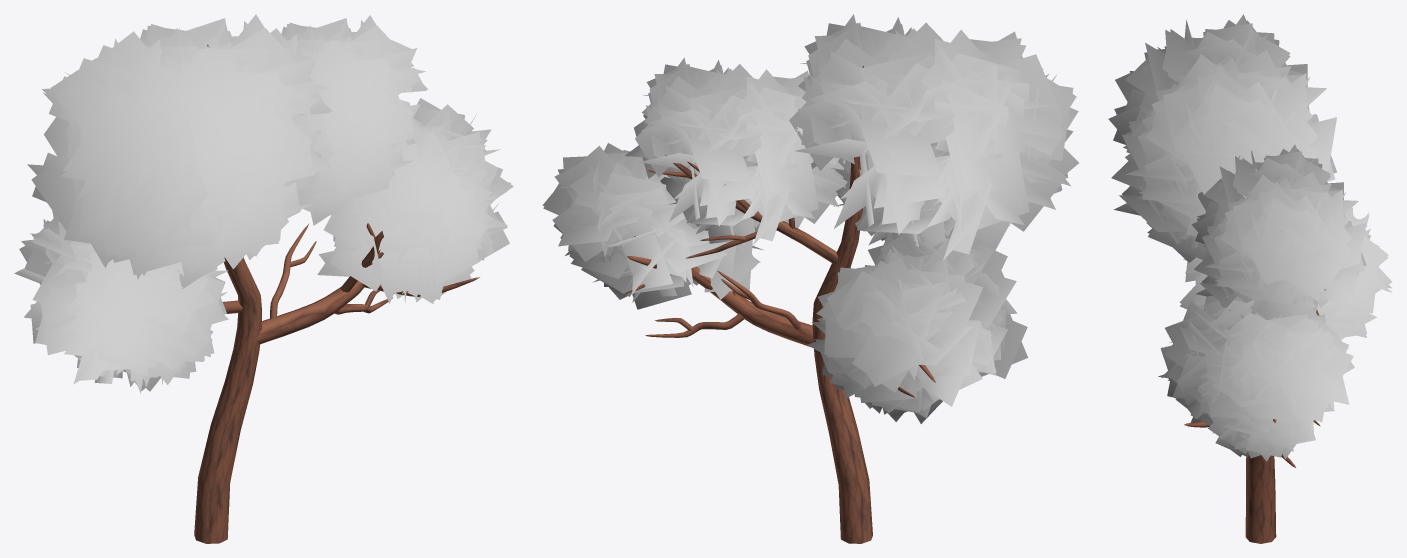
The model's file is q_tree_c.fbx.
3 renders of one model, left to right at view 1: azimuth 30°, elevation 25°; view 2: azimuth 150°, elevation 25°; view 3: azimuth 270°, elevation 25°, orthographic. The views are drawn at different scales.
Parts seen in each view (by area): view 1: q_tree_c; view 2: q_tree_c; view 3: q_tree_c.
Part boxes in pixels (left/top/right/bottom): q_tree_c: left=14, top=14, right=513, bottom=543; q_tree_c: left=542, top=14, right=1078, bottom=543; q_tree_c: left=1108, top=14, right=1392, bottom=543.
Bounding box in the file's own units: 0.9542 × 1 × 0.5453.
